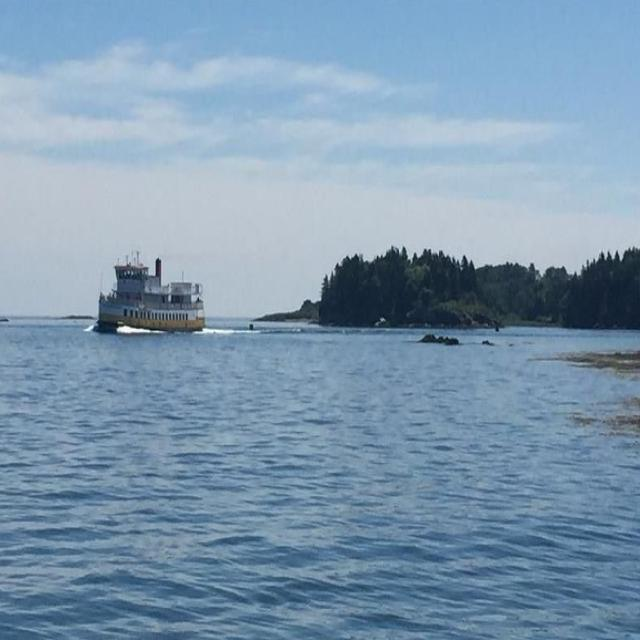passenger ship: (77, 253, 222, 329)
